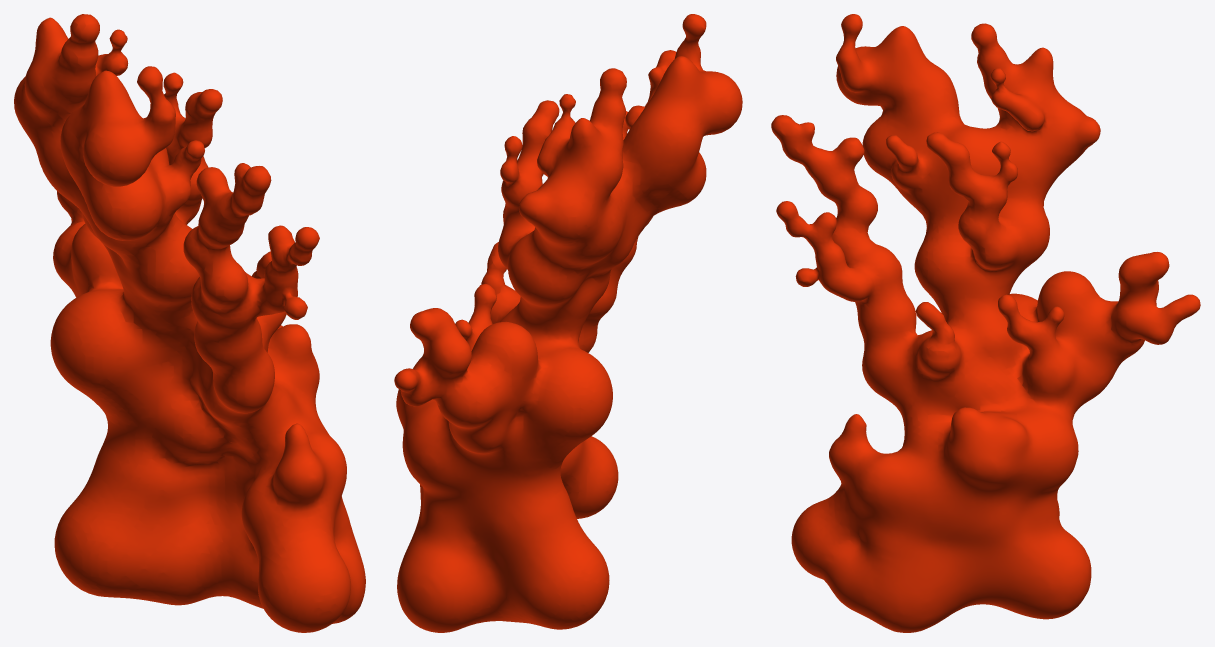
Rendered from batu karang1.fbx.
3 views of the same model, side by side, from view 1: azimuth 30°, elevation 25°; view 2: azimuth 150°, elevation 25°; view 3: azimuth 270°, elevation 25° (orthographic). The views are drawn at different scales.
Parts seen in each view (by area): view 1: Mball.112; view 2: Mball.112; view 3: Mball.112.
Boxes of the visible parts, <box> form: Mball.112: <box>14,14,365,632</box>; Mball.112: <box>394,14,742,632</box>; Mball.112: <box>771,14,1200,632</box>.
Bounding box in the file's own units: 115 × 232 × 169.
